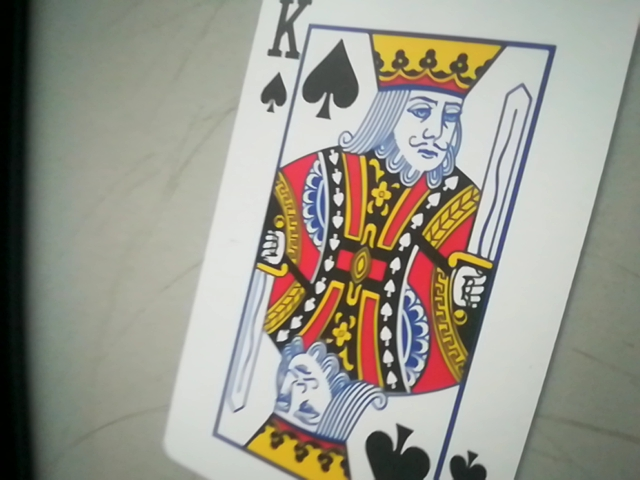ht k: (249, 1, 324, 125)
